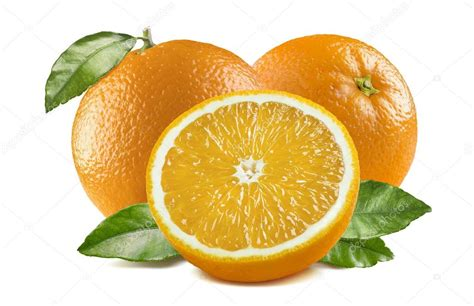orange: (266, 31, 422, 195), (64, 35, 264, 159)
